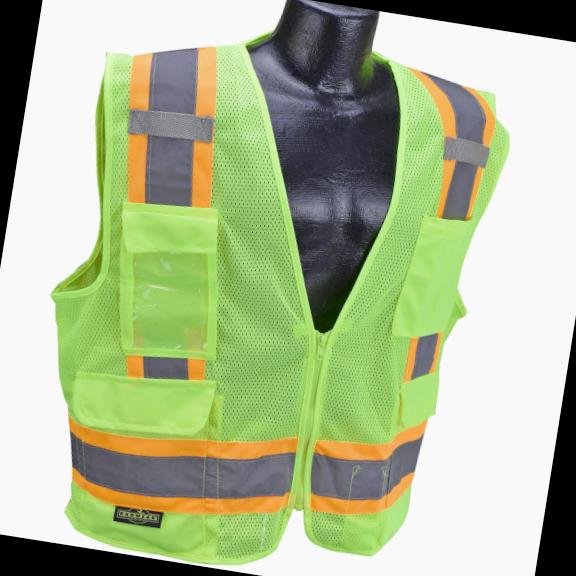safety_vest: (12, 14, 521, 576)
